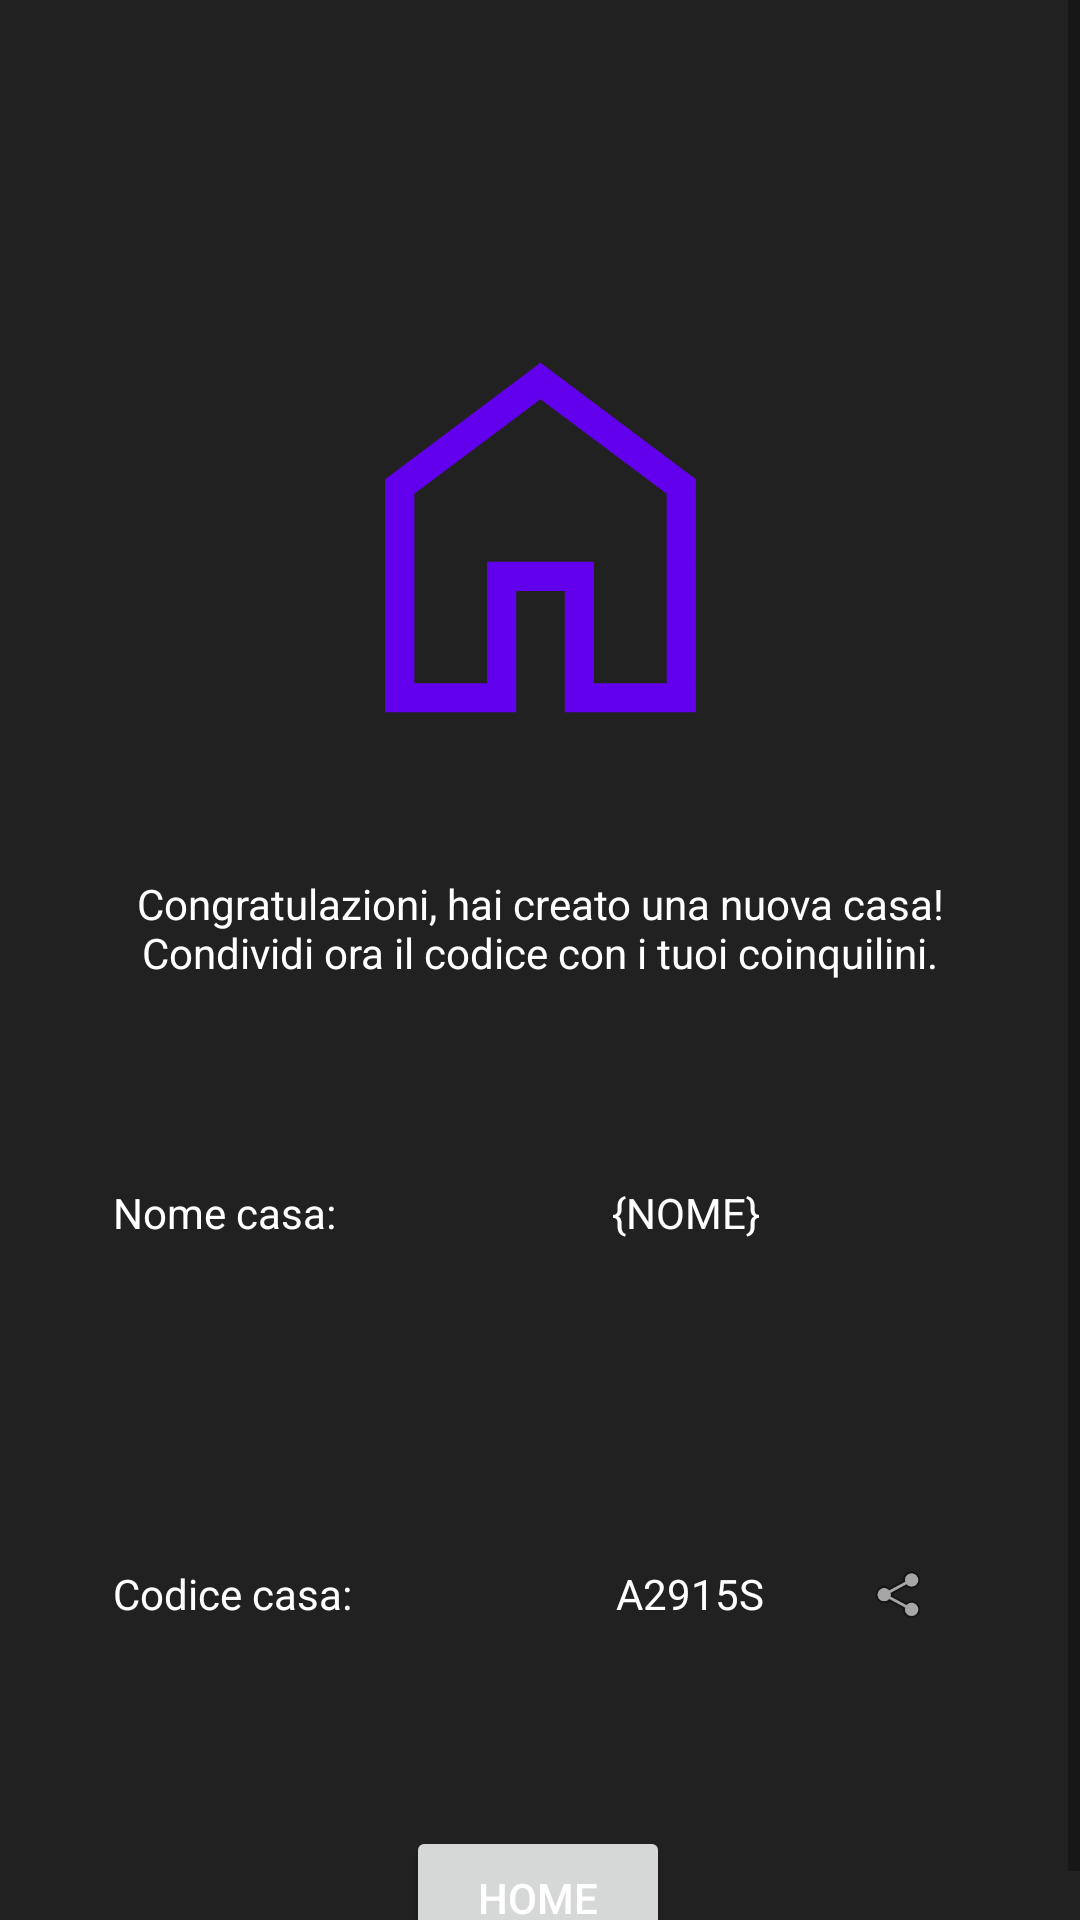

Locate icon controls on the screen. Image size 1080 x 1920, boxes as (x1, y1, x2, y2).
A purple house: (385, 363, 696, 713)
share: (877, 1573, 919, 1616)
